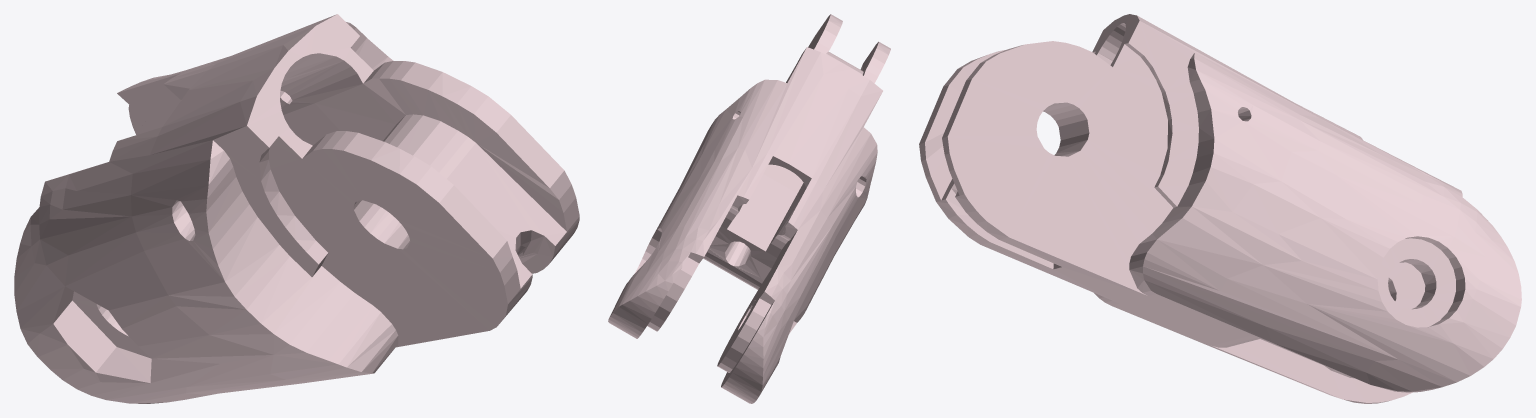
File: i02_rightHand_indexMid_visual.obj.light.glb
3 views of the same model, side by side, from view 1: azimuth 30°, elevation 25°; view 2: azimuth 150°, elevation 25°; view 3: azimuth 270°, elevation 25° (orthographic). The views are drawn at different scales.
Size of the model in its own units: 0.1769 by 0.2842 by 0.3928.
